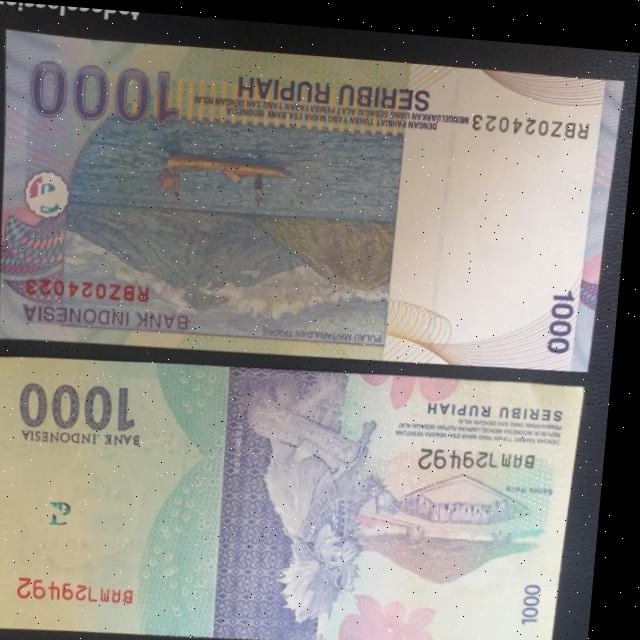1000IndonesianRupiah: (0, 342, 588, 640)
